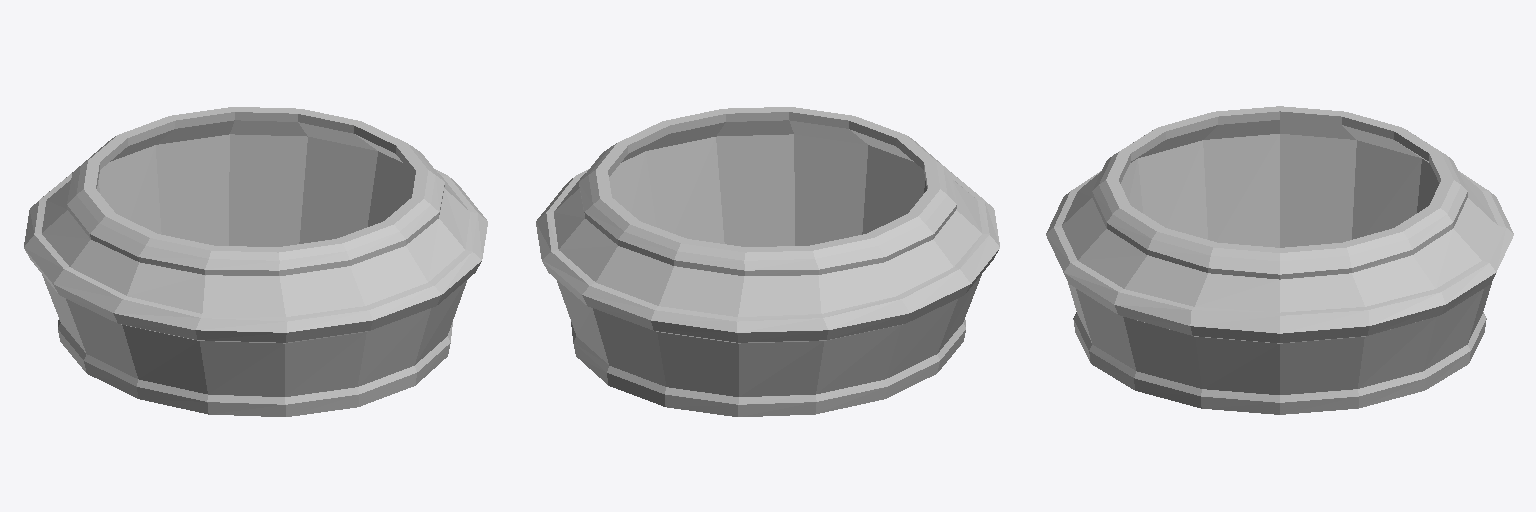
File: drone03_outer.obj
The picture shows the model from 3 angles: view 1: azimuth 30°, elevation 25°; view 2: azimuth 150°, elevation 25°; view 3: azimuth 270°, elevation 25°; orthographic projection.
Size of the model in its own units: 1.87 by 0.6708 by 1.87.